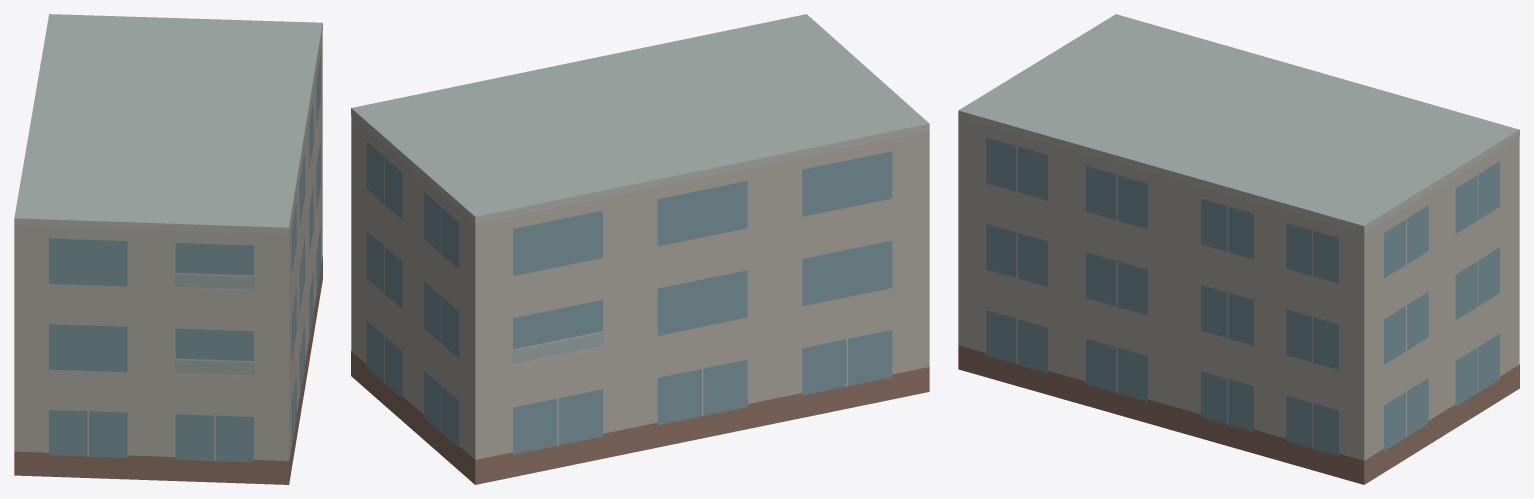
Rendered from survey-upis-32703972.glb.
3 renders of one model, left to right at view 1: azimuth 30°, elevation 25°; view 2: azimuth 150°, elevation 25°; view 3: azimuth 270°, elevation 25°, orthographic. The views are drawn at different scales.
Visible parts, largest first — view 1: survey-upis-32703972.tmp; view 2: survey-upis-32703972.tmp; view 3: survey-upis-32703972.tmp.
Boxes of the visible parts, <box> form: survey-upis-32703972.tmp: <box>14,14,322,484</box>; survey-upis-32703972.tmp: <box>351,14,929,484</box>; survey-upis-32703972.tmp: <box>958,14,1519,484</box>.
Bounding box in the file's own units: 16.09 × 9.15 × 18.
